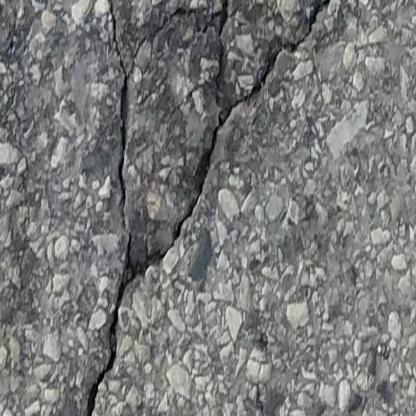Cracks: (81, 0, 360, 416)
